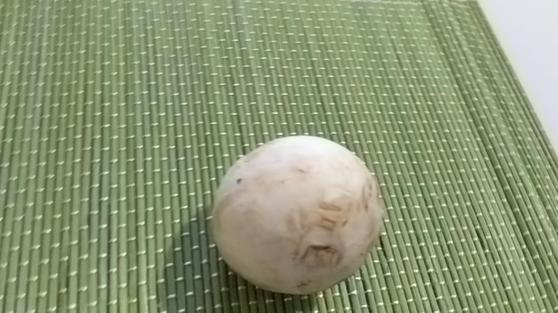champignon: (206, 131, 381, 298)
